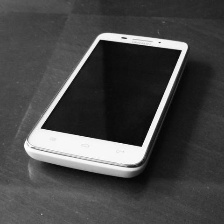phone: (19, 27, 191, 184)
